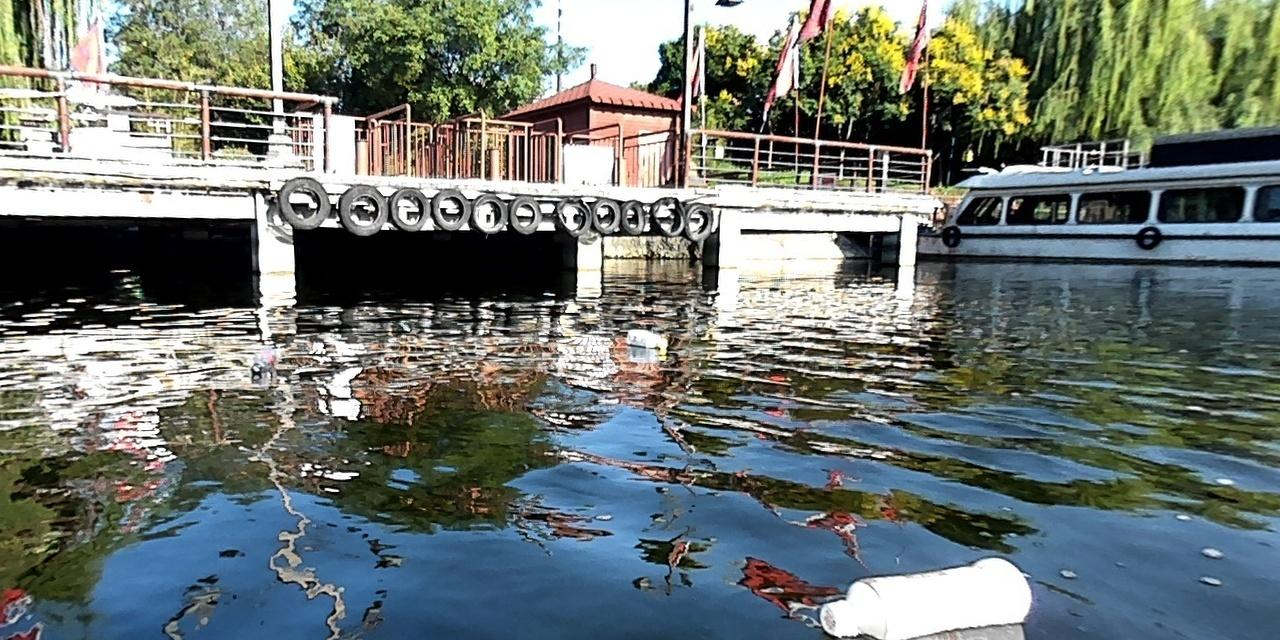bottle: (814, 550, 1033, 639), (243, 341, 283, 377), (618, 324, 667, 350)
